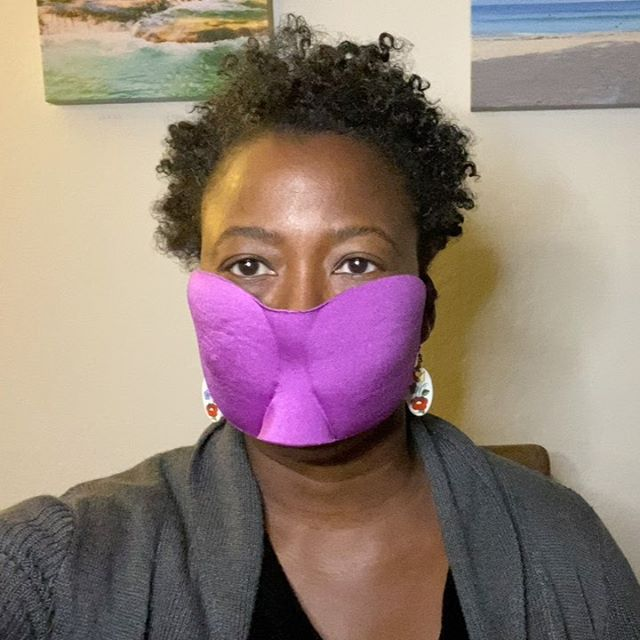homemade: (182, 272, 460, 446)
